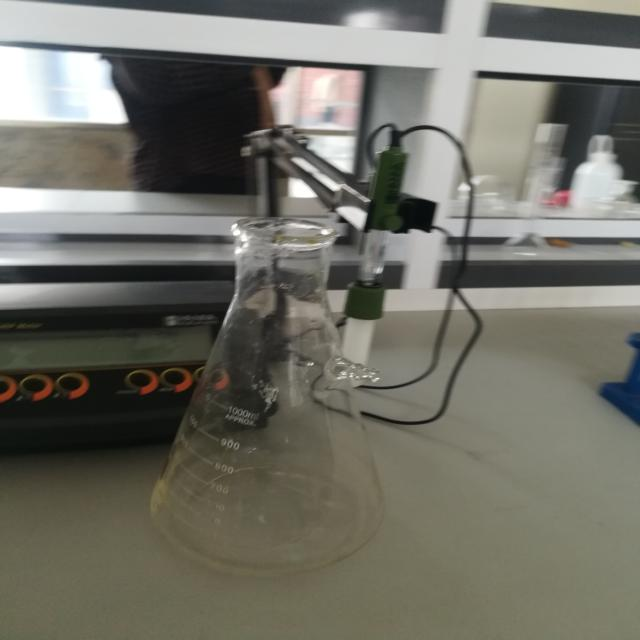Conical_Flask: (102, 173, 424, 603)
